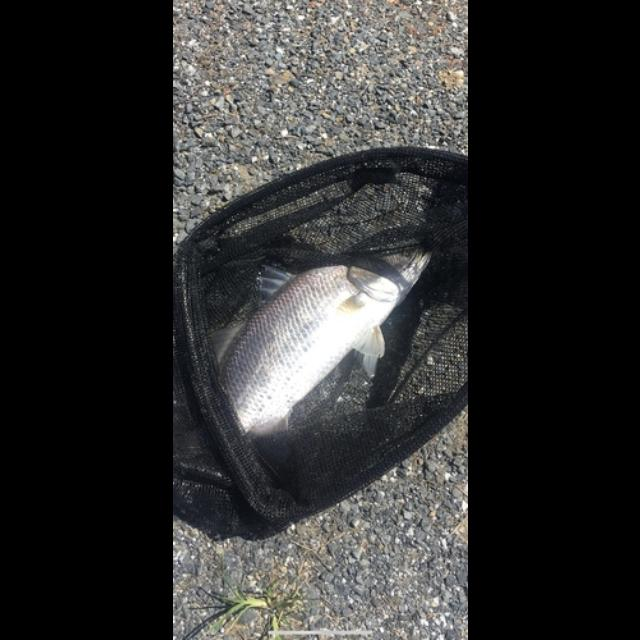Seabass: (200, 243, 436, 434)
